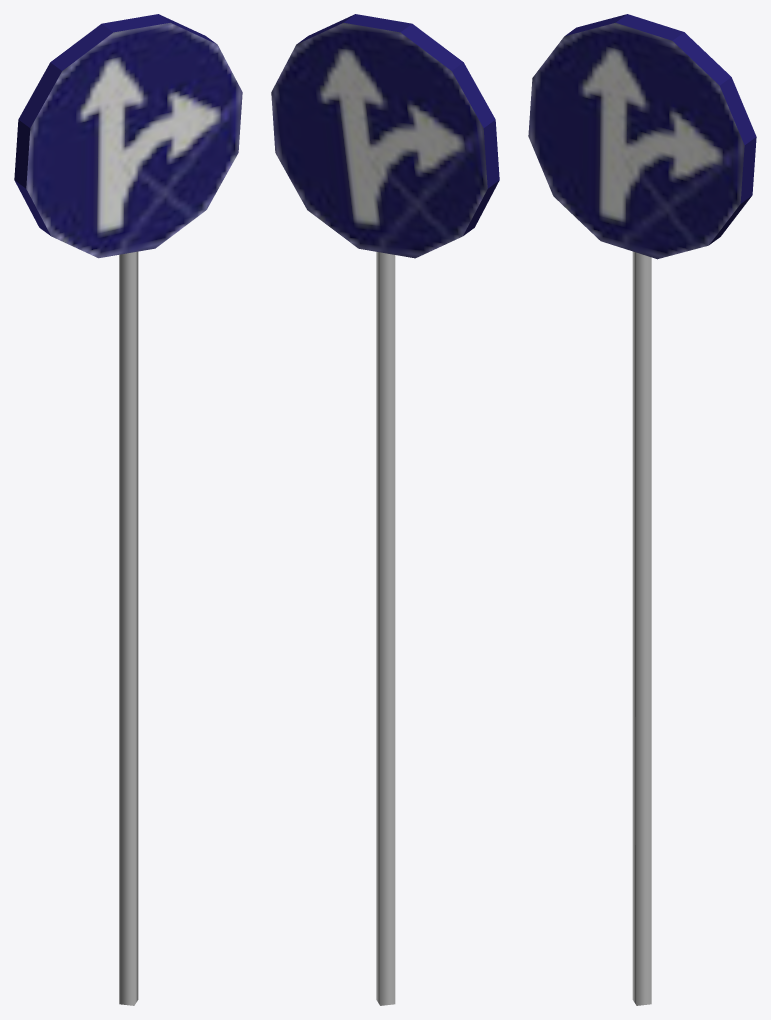
The model's file is Exit sign.fbx.
3 views of the same model, side by side, from view 1: azimuth 30°, elevation 25°; view 2: azimuth 150°, elevation 25°; view 3: azimuth 330°, elevation 25° (orthographic).
Visible parts, largest first — view 1: Exit sign; view 2: Exit sign; view 3: Exit sign.
Boxes of the visible parts, <box> form: Exit sign: <box>14,14,242,1005</box>; Exit sign: <box>271,14,499,1005</box>; Exit sign: <box>528,14,756,1005</box>.
Size of the model in its own units: 7.38 by 31.89 by 0.7061.
